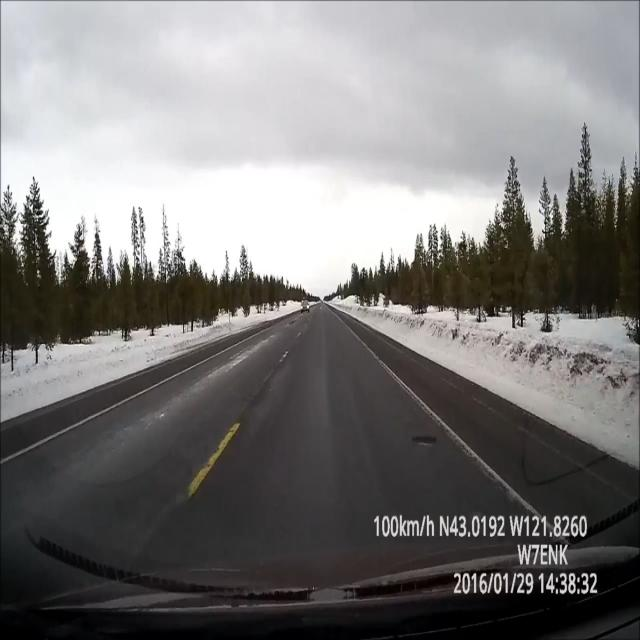Pothole: (408, 427, 444, 459)
